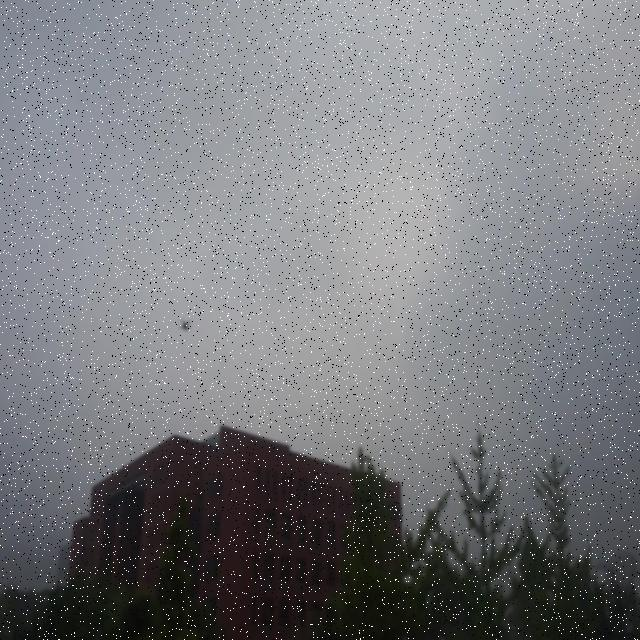UAV: (179, 318, 192, 332)
